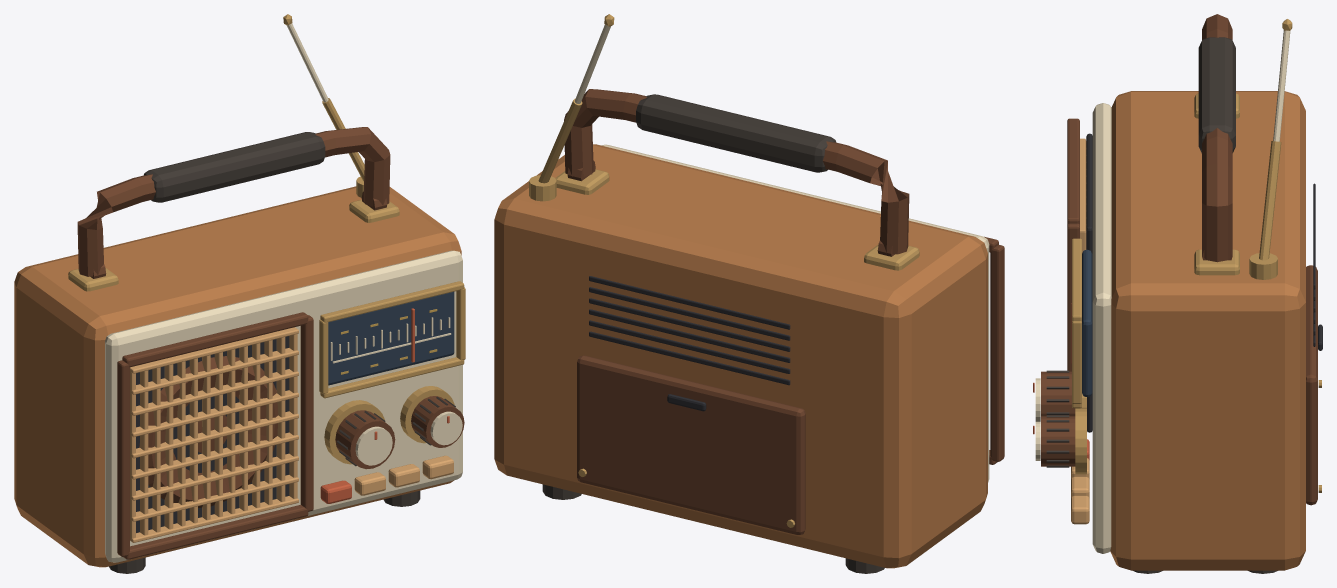
The model's file is 015_portable_radio_v01.glb.
3 renders of one model, left to right at view 1: azimuth 30°, elevation 25°; view 2: azimuth 150°, elevation 25°; view 3: azimuth 270°, elevation 25°, orthographic. The views are drawn at different scales.
Parts seen in each view (by area): view 1: Radio cedar cabinet, Radio cream front, Tuner recessed dark window, Handle soft hand grip, Bent carry handle, Radio speaker behind grille, Radio speaker shadow cavity, Grille side rim.001, Grille side rim, Grille top bottom rim.001, Grille top bottom rim, Fluted radio control (+38 smaller); view 2: Radio cedar cabinet, Radio battery panel, Handle soft hand grip, Bent carry handle, Grille side rim, Radio cream front, Rear radio cooling slot, Rear radio cooling slot.001, Rear radio cooling slot.002, Rear radio cooling slot.003, Rear radio cooling slot.005, Rear radio cooling slot.004 (+3 smaller); view 3: Radio cedar cabinet, Radio cream front, Bent carry handle, Handle soft hand grip, Radio battery panel, Tuner recessed dark window, Fluted radio control.001, Grille top bottom rim.001, Aerial lower segment, Fluted radio control, Radio speaker shadow cavity, Grille side rim.001 (+9 smaller).
Boxes of the visible parts, <box> form: Radio cedar cabinet: <box>14,186,461,567</box>; Radio cream front: <box>105,250,462,562</box>; Tuner recessed dark window: <box>328,291,454,385</box>; Handle soft hand grip: <box>144,132,325,202</box>; Bent carry handle: <box>77,127,390,276</box>; Radio speaker behind grille: <box>139,356,278,507</box>; Radio speaker shadow cavity: <box>136,336,289,532</box>; Grille side rim.001: <box>300,315,313,511</box>; Grille side rim: <box>117,360,129,556</box>; Grille top bottom rim.001: <box>122,312,308,367</box>; Grille top bottom rim: <box>123,505,308,559</box>; Fluted radio control: <box>335,410,395,469</box>; Radio cedar cabinet: <box>494,144,987,568</box>; Radio battery panel: <box>577,355,805,534</box>; Handle soft hand grip: <box>636,94,836,172</box>; Bent carry handle: <box>564,89,909,254</box>; Grille side rim: <box>990,245,1004,461</box>; Radio cream front: <box>601,144,989,482</box>; Rear radio cooling slot: <box>589,331,790,385</box>; Rear radio cooling slot.001: <box>589,320,790,373</box>; Rear radio cooling slot.002: <box>589,309,790,362</box>; Rear radio cooling slot.003: <box>589,298,790,351</box>; Rear radio cooling slot.005: <box>589,276,790,329</box>; Rear radio cooling slot.004: <box>589,287,790,340</box>; Radio cedar cabinet: <box>1110,91,1305,570</box>; Radio cream front: <box>1092,103,1111,553</box>; Bent carry handle: <box>1202,14,1232,262</box>; Handle soft hand grip: <box>1198,37,1235,153</box>; Radio battery panel: <box>1306,265,1317,505</box>; Tuner recessed dark window: <box>1082,249,1092,396</box>; Fluted radio control.001: <box>1041,416,1075,466</box>; Grille top bottom rim.001: <box>1067,118,1079,224</box>; Aerial lower segment: <box>1259,141,1281,260</box>; Fluted radio control: <box>1041,371,1075,416</box>; Radio speaker shadow cavity: <box>1086,133,1092,432</box>; Grille side rim.001: <box>1067,223,1079,371</box>.
Bounding box in the file's own units: 0.586 × 0.675 × 0.343.
